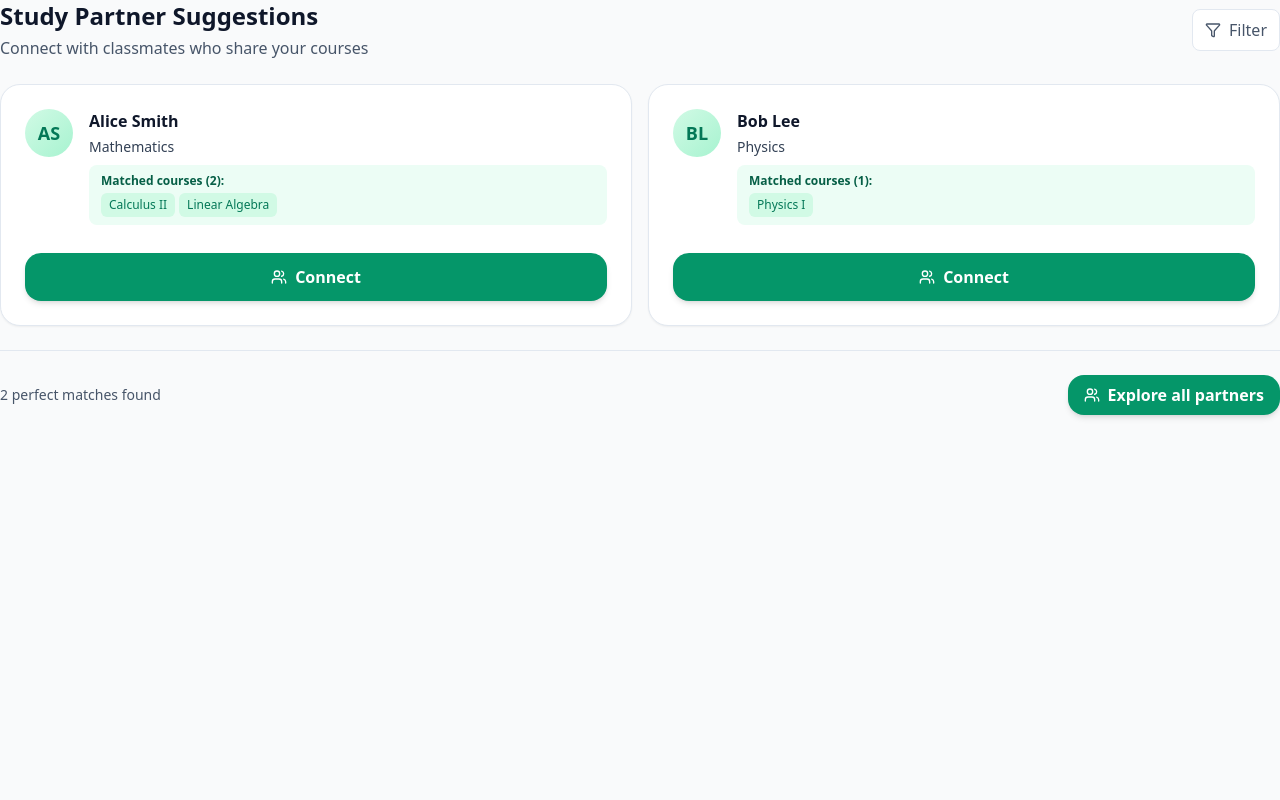
BuddySearch › closes modal when clicking close button
The image size is (1280, 800).
Expected: the heading "Alice Smith" is shown, x1=89 y1=110 x2=178 y2=132
Click the button "Connect" below "Alice Smith".
click(316, 277)  # box x1=25 y1=253 x2=607 y2=301
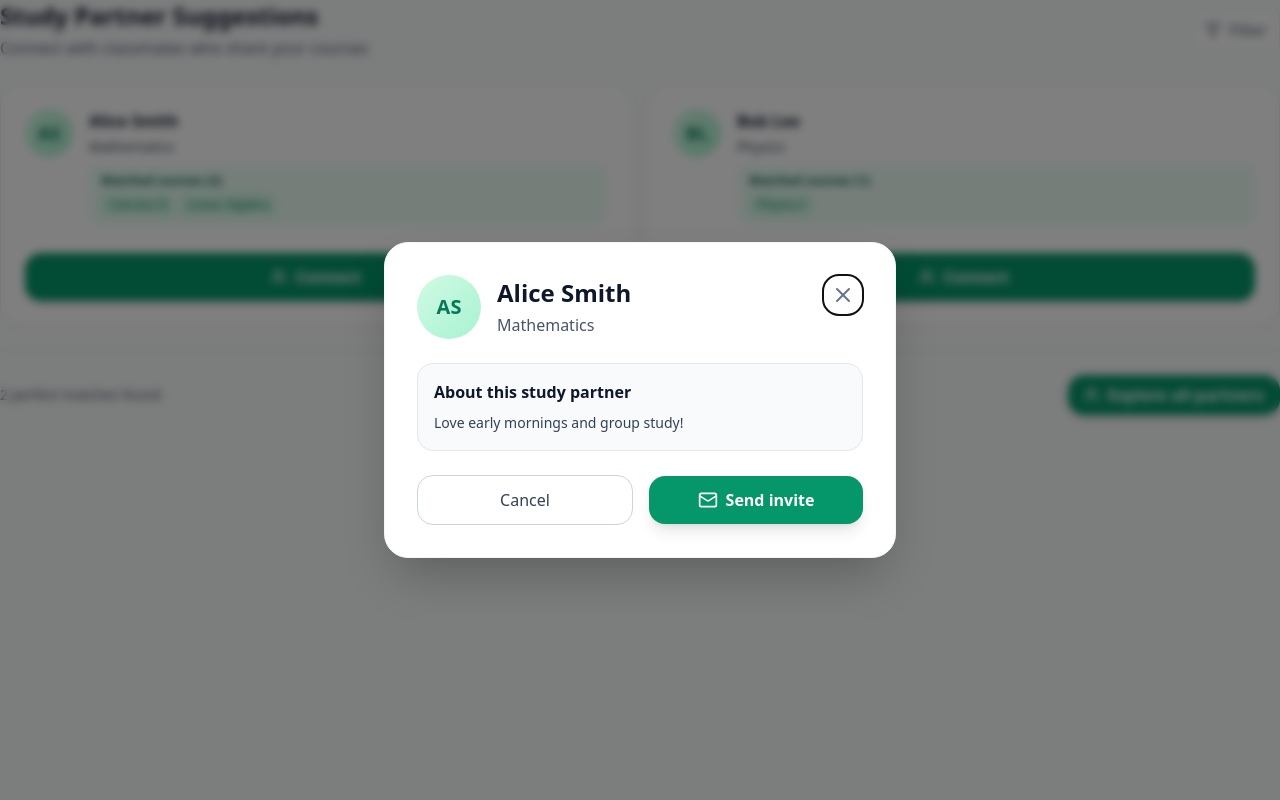
Click the button named "close".
click(843, 295)  # box x1=823 y1=275 x2=863 y2=315
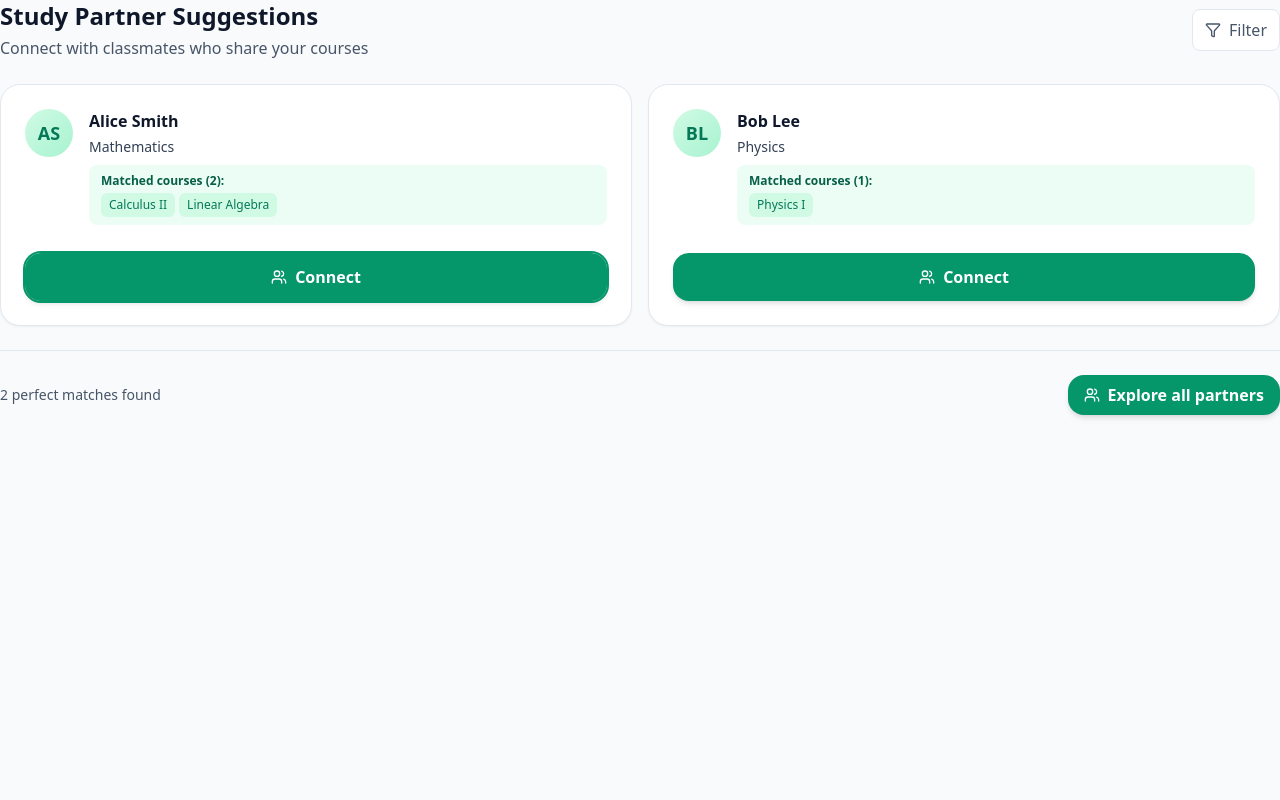
Expected: the dialog is gone
